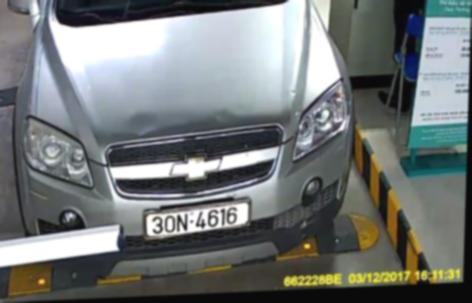License_Plate: (142, 202, 252, 238)
